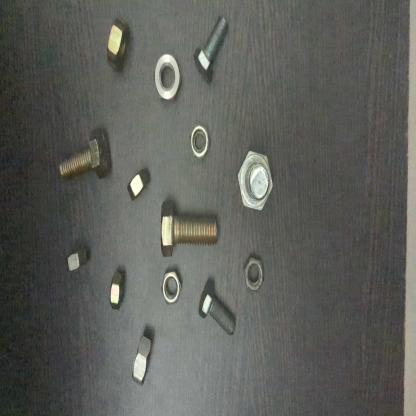Bolts: (45, 123, 117, 189), (154, 196, 226, 260), (231, 140, 279, 225), (192, 15, 235, 92), (192, 279, 242, 339)
NUTS: (100, 12, 140, 75), (126, 326, 157, 396), (152, 43, 183, 111), (237, 250, 270, 304), (157, 262, 190, 316), (107, 259, 132, 325), (124, 160, 153, 209), (186, 118, 214, 163)
